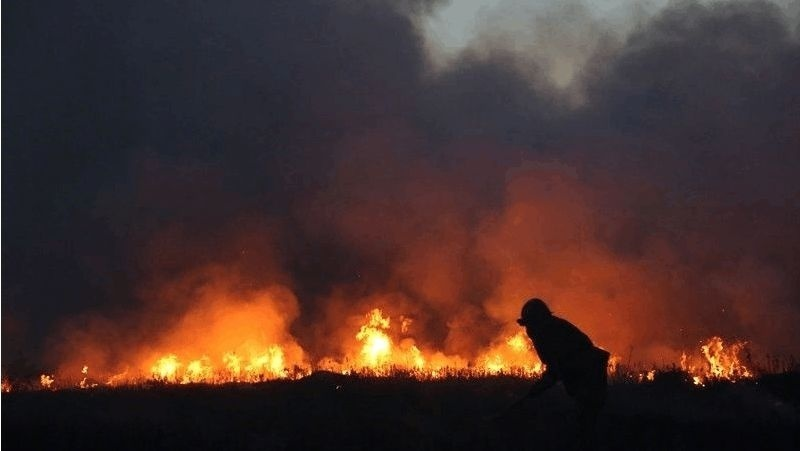fire: (676, 330, 757, 387)
